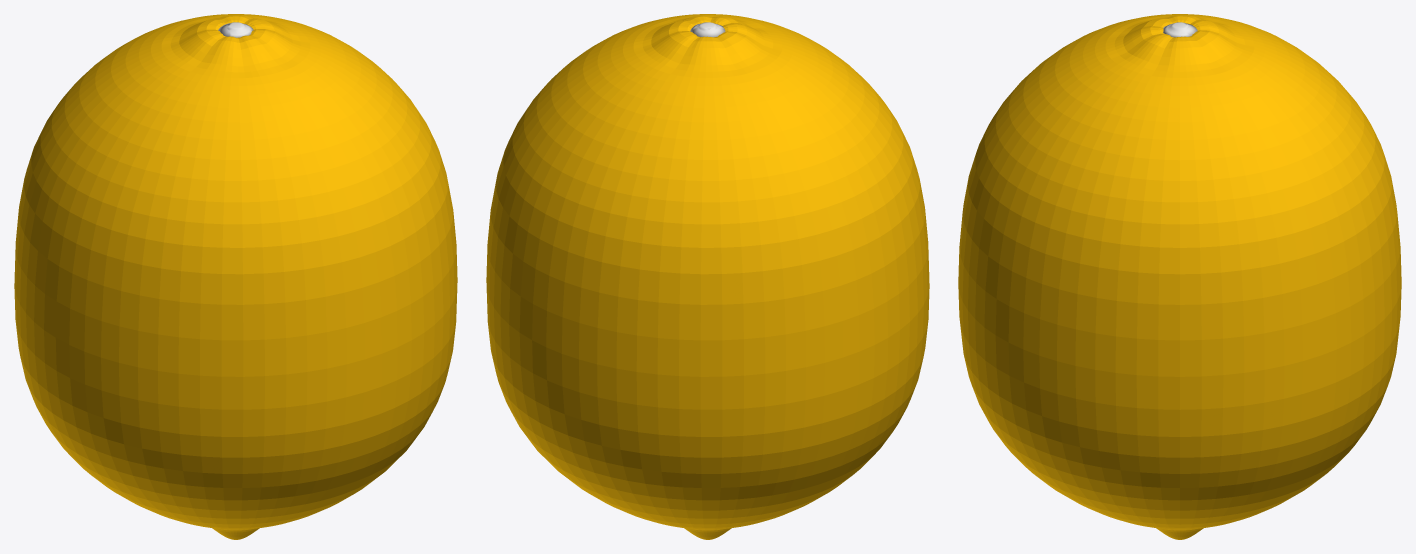
File: LEMON_smooth.fbx
The picture shows the model from 3 angles, left to right: view 1: azimuth 30°, elevation 25°; view 2: azimuth 150°, elevation 25°; view 3: azimuth 270°, elevation 25°; orthographic projection.
Parts seen in each view (by area): view 1: LEMON; view 2: LEMON; view 3: LEMON.
Part boxes in pixels (box(x1,y1,x2,y2)): LEMON: box(14, 14, 457, 539); LEMON: box(486, 14, 929, 539); LEMON: box(958, 14, 1401, 539).
Bounding box in the file's own units: 197 × 253 × 197.
